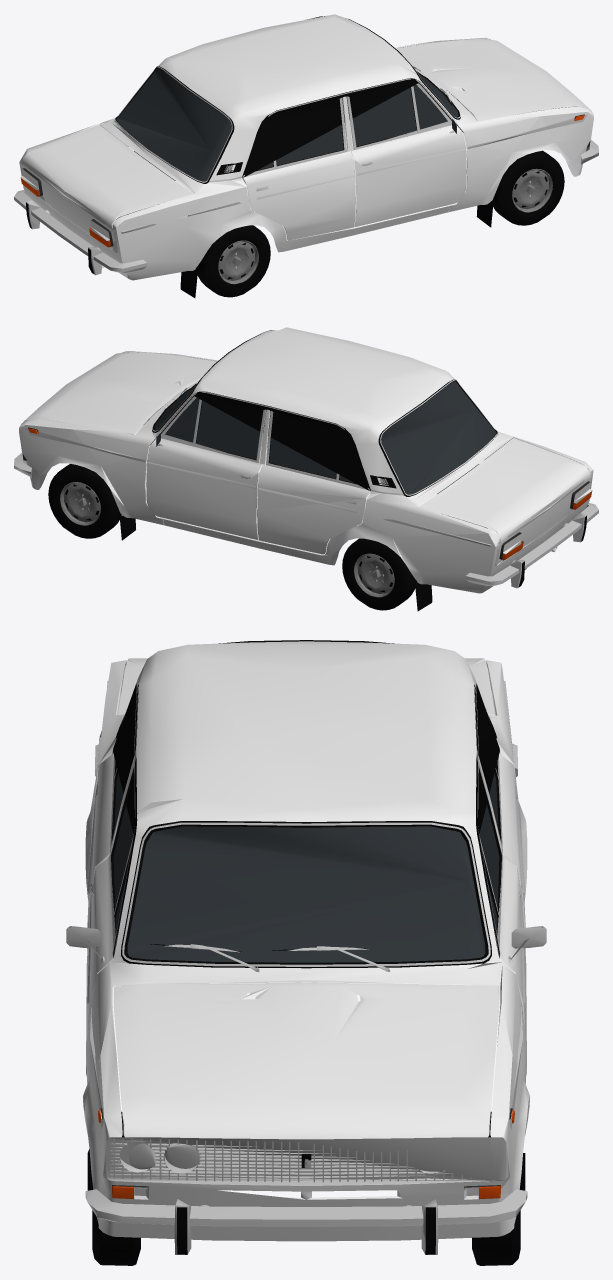
Rendered from vaz2103.obj.
3 renders of one model, top to bottom at view 1: azimuth 30°, elevation 25°; view 2: azimuth 150°, elevation 25°; view 3: azimuth 270°, elevation 25°, orthographic. The views are drawn at different scales.
Parts seen in each view (by area): view 1: vaz2103_03paintPaint, vaz2103_winglassGlass, vaz2103_jigrubber, vaz2103_jigchrome, vaz2103_wheeltire, vaz2103_wheelrim, vaz2103_jigplastic, vaz2103_hlchrome; view 2: vaz2103_03paintPaint, vaz2103_winglassGlass, vaz2103_jigrubber, vaz2103_jigchrome, vaz2103_wheeltire, vaz2103_wheelrim, vaz2103_jigplastic, vaz2103_hlchrome; view 3: vaz2103_03paintPaint, vaz2103_winglassGlass, vaz2103_jigchrome, vaz2103_jigrubber, vaz2103_wheeltire, vaz2103_jigplastic.
Part boxes in pixels (x1,y1,x2,y2): vaz2103_03paintPaint: (19, 14, 593, 280); vaz2103_winglassGlass: (116, 68, 458, 181); vaz2103_jigrubber: (115, 16, 493, 297); vaz2103_jigchrome: (14, 66, 598, 275); vaz2103_wheeltire: (116, 92, 564, 297); vaz2103_wheelrim: (218, 168, 552, 284); vaz2103_jigplastic: (26, 85, 445, 273); vaz2103_hlchrome: (21, 106, 575, 240); vaz2103_03paintPaint: (19, 327, 593, 593); vaz2103_winglassGlass: (154, 381, 496, 494); vaz2103_jigrubber: (119, 330, 497, 611); vaz2103_jigchrome: (14, 375, 598, 588); vaz2103_wheeltire: (48, 404, 487, 610); vaz2103_wheelrim: (60, 482, 394, 597); vaz2103_jigplastic: (166, 400, 586, 587); vaz2103_hlchrome: (38, 419, 591, 554); vaz2103_03paintPaint: (83, 641, 529, 1241); vaz2103_winglassGlass: (113, 732, 499, 962); vaz2103_jigchrome: (66, 672, 546, 1254); vaz2103_jigrubber: (87, 640, 525, 1190); vaz2103_wheeltire: (92, 952, 520, 1265); vaz2103_jigplastic: (111, 692, 501, 1254).
Size of the model in its own units: 4.1 by 1.4 by 1.71.
Materials: 16 (16 with a texture image).
